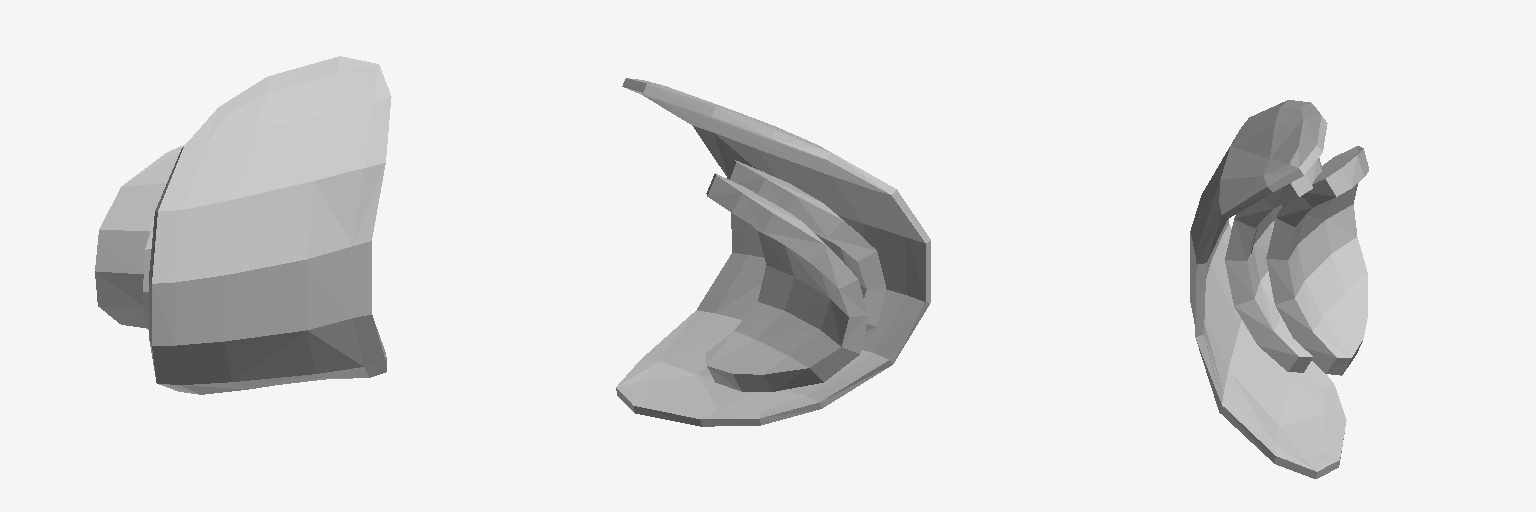
The model's file is FootballLeftPDobj.obj.
The picture shows the model from 3 angles: view 1: azimuth 30°, elevation 25°; view 2: azimuth 150°, elevation 25°; view 3: azimuth 270°, elevation 25°; orthographic projection.
Visible parts, largest first — view 1: Arms.003; view 2: Arms.003; view 3: Arms.003.
Boxes of the visible parts, <box> form: Arms.003: <box>95,56,391,394</box>; Arms.003: <box>616,78,930,426</box>; Arms.003: <box>1190,100,1368,478</box>.
Bounding box in the file's own units: 17.02 × 19.6 × 9.88.